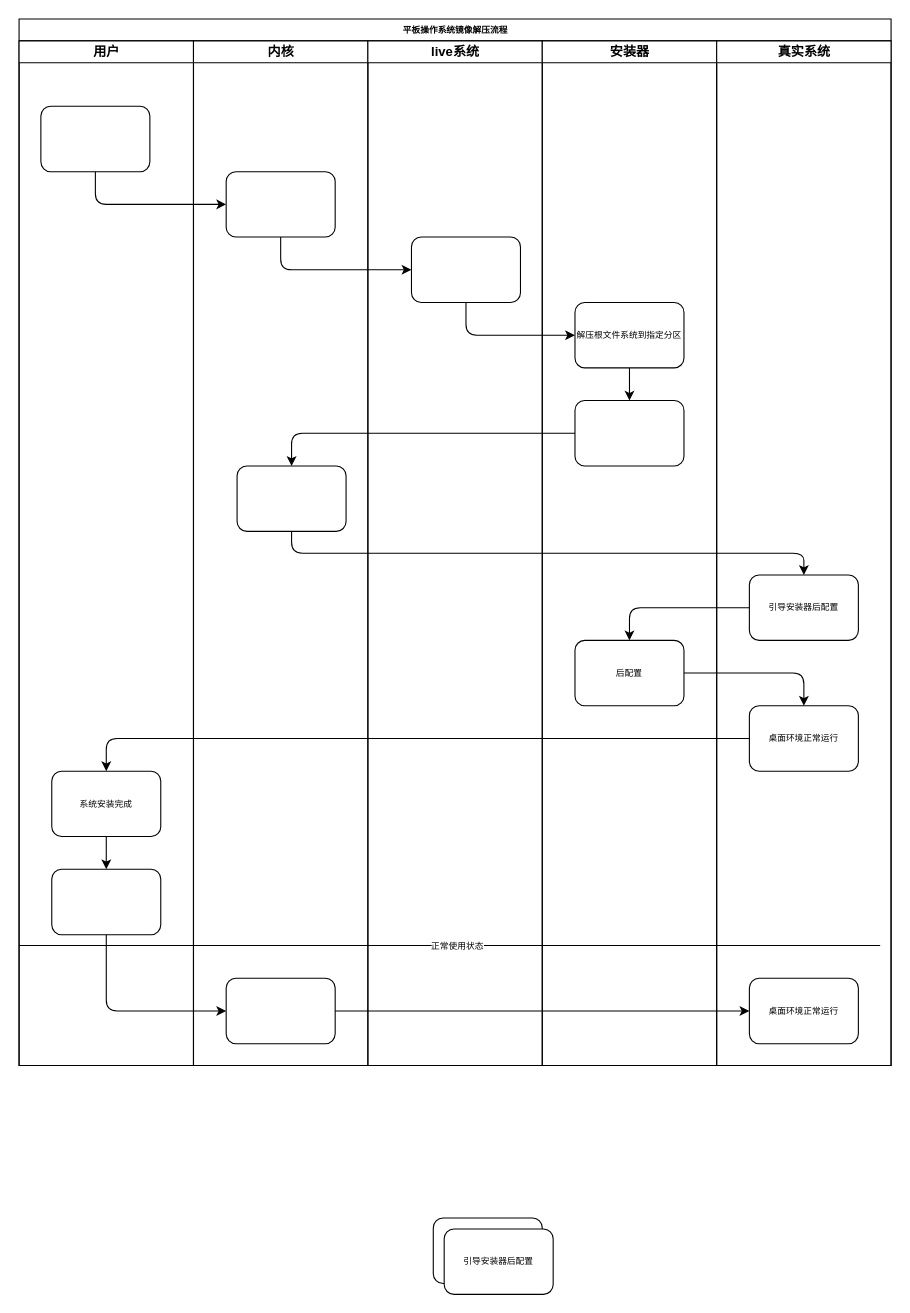
This 910x1313 diagram has some shape labels left out. The shapes that lost their labels are listed below. From the top down, each one's centre as x and y in pixels, then its label:
(x=95, y=138): 初次开机
(x=280, y=204): 引导至live系统
(x=465, y=269): 启动安装器
(x=629, y=432): 重启系统
(x=291, y=498): 引导真实文件系统
(x=106, y=901): 用户重启系统
(x=280, y=1010): 内核引导文件系统启动
